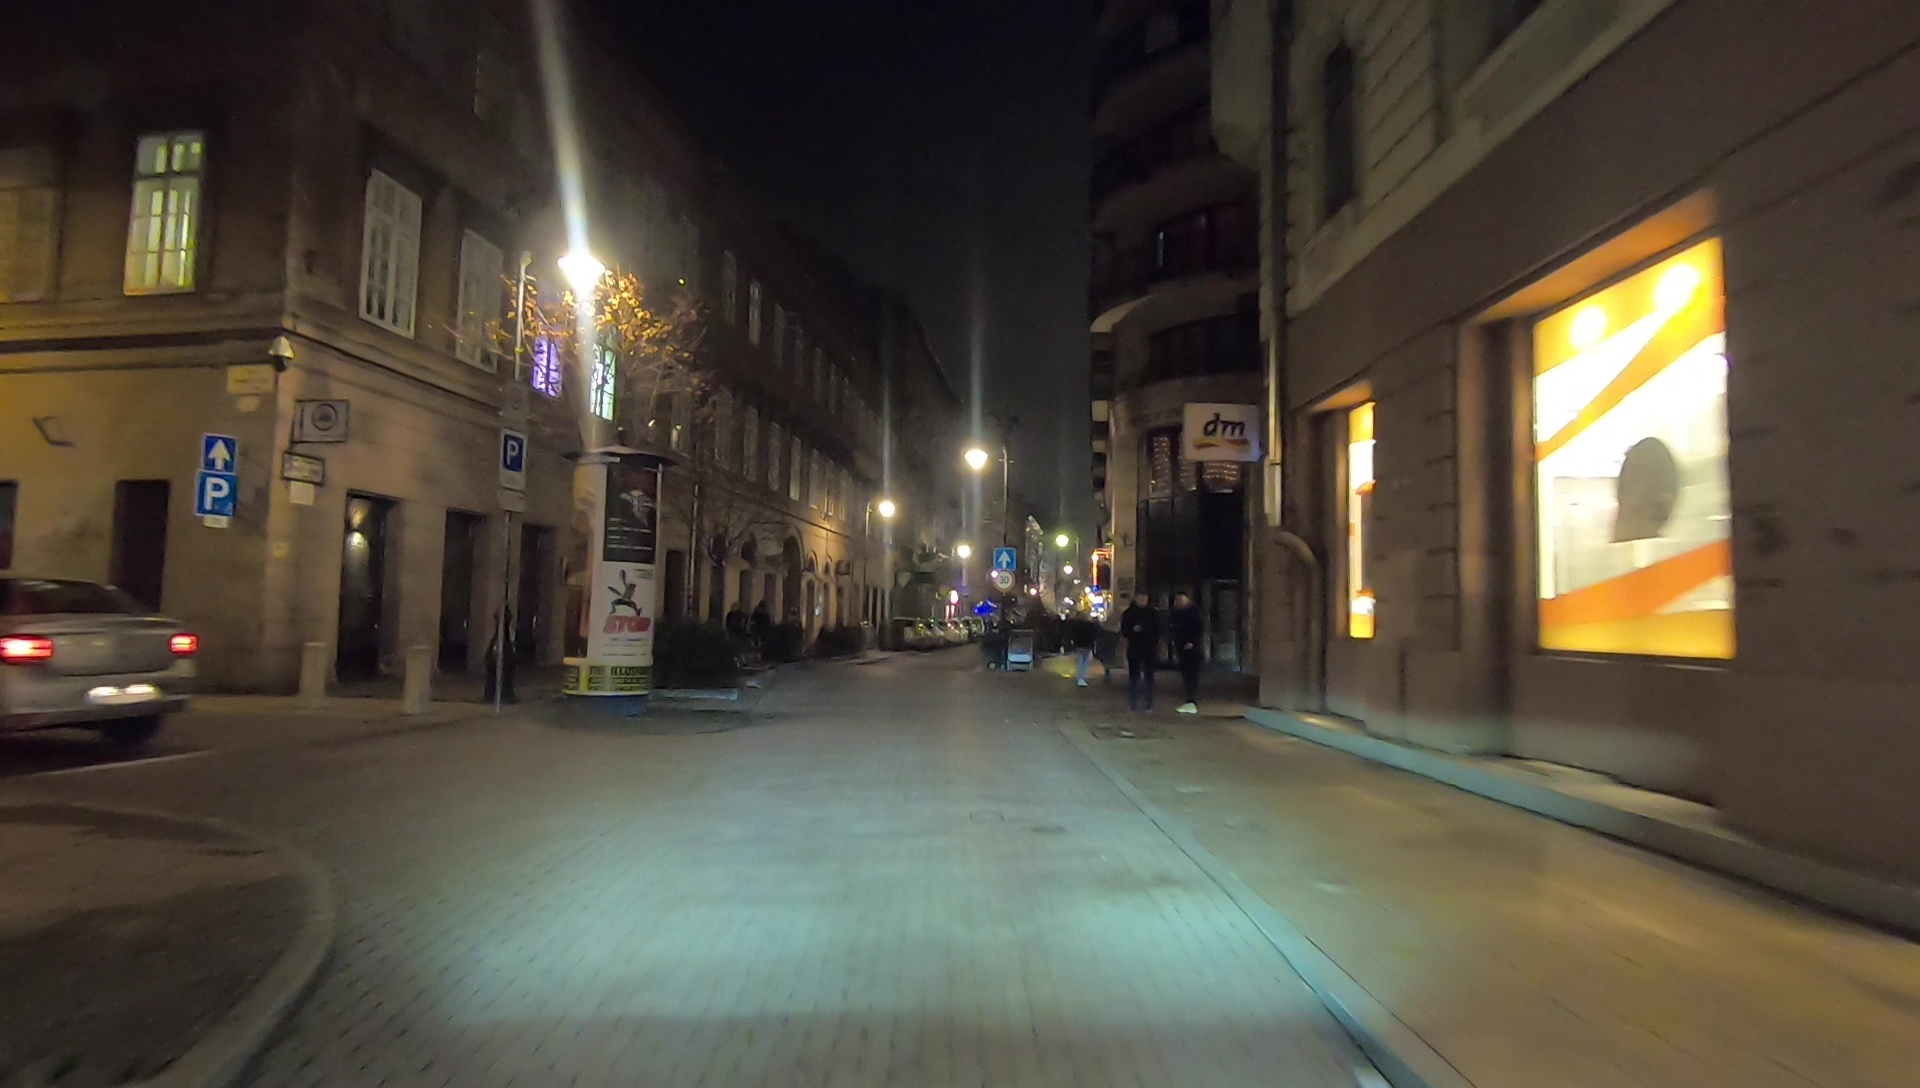person: (1167, 589, 1208, 717), (1123, 586, 1160, 710), (1093, 597, 1121, 689), (1071, 602, 1095, 686)
